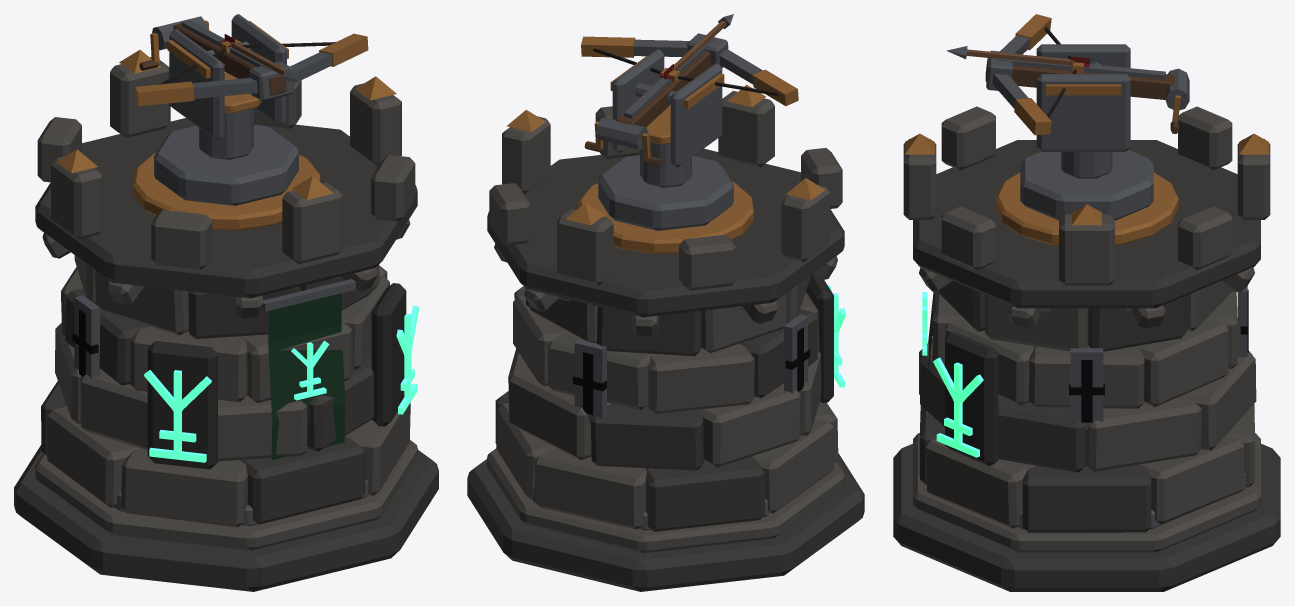
The model's file is crossbow_tower_lvl2.glb.
3 views of the same model, side by side, from view 1: azimuth 30°, elevation 25°; view 2: azimuth 150°, elevation 25°; view 3: azimuth 270°, elevation 25° (orthographic). The views are drawn at different scales.
Parts seen in each view (by area): view 1: Platform, Plinth, Plinth_Step, Turret_Base, Block_0_5, Block_0_6, Banner, RuneStone_1, Block_1_5, Block_0_4, Turret_Ring, RuneStone_0 (+41 smaller); view 2: Platform, Plinth, Plinth_Step, Block_0_3, Turret_Base, Block_0_2, Block_1_2, Block_2_3, Block_1_3, Block_1_1, Block_0_4, Turret_Ring (+35 smaller); view 3: Platform, Plinth, Plinth_Step, Block_0_0, Turret_Base, Block_1_0, Cheek_R, Block_0_7, Block_0_1, Block_1_7, Block_2_1, RuneStone_0 (+40 smaller).
Boxes of the visible parts, bbox=[...] form: Platform: bbox=[35, 118, 417, 298]; Plinth: bbox=[14, 445, 438, 591]; Plinth_Step: bbox=[35, 440, 417, 550]; Turret_Base: bbox=[154, 124, 298, 205]; Block_0_5: bbox=[121, 448, 247, 527]; Block_0_6: bbox=[240, 437, 365, 524]; Banner: bbox=[268, 293, 345, 460]; RuneStone_1: bbox=[147, 341, 217, 469]; Block_1_5: bbox=[218, 395, 307, 461]; Block_0_4: bbox=[47, 406, 140, 507]; Turret_Ring: bbox=[132, 153, 320, 230]; RuneStone_0: bbox=[371, 283, 406, 426]; Platform: bbox=[487, 148, 844, 317]; Plinth: bbox=[467, 453, 864, 591]; Plinth_Step: bbox=[487, 448, 844, 553]; Block_0_3: bbox=[645, 456, 764, 531]; Turret_Base: bbox=[598, 155, 733, 230]; Block_0_2: bbox=[534, 448, 646, 529]; Block_1_2: bbox=[590, 404, 703, 470]; Block_2_3: bbox=[647, 344, 754, 413]; Block_1_3: bbox=[699, 384, 800, 467]; Block_1_1: bbox=[509, 369, 611, 459]; Block_0_4: bbox=[752, 418, 834, 513]; Turret_Ring: bbox=[578, 181, 753, 253]; Platform: bbox=[913, 140, 1260, 308]; Plinth: bbox=[893, 443, 1280, 591]; Plinth_Step: bbox=[913, 432, 1260, 552]; Block_0_0: bbox=[1022, 464, 1151, 532]; Turret_Base: bbox=[1020, 149, 1153, 220]; Block_1_0: bbox=[1086, 397, 1202, 471]; Cheek_R: bbox=[1036, 74, 1130, 151]; Block_0_7: bbox=[926, 434, 1035, 528]; Block_0_1: bbox=[1139, 435, 1243, 524]; Block_1_7: bbox=[998, 396, 1086, 472]; Block_2_1: bbox=[1136, 317, 1228, 406]; RuneStone_0: bbox=[945, 332, 998, 465].
Size of the model in its own units: 2.37 by 3.15 by 2.37.
